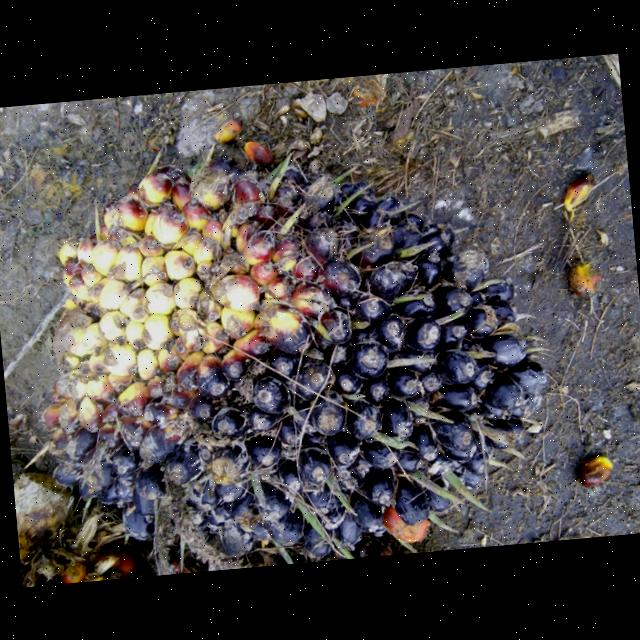Unripe: (43, 162, 547, 552)
